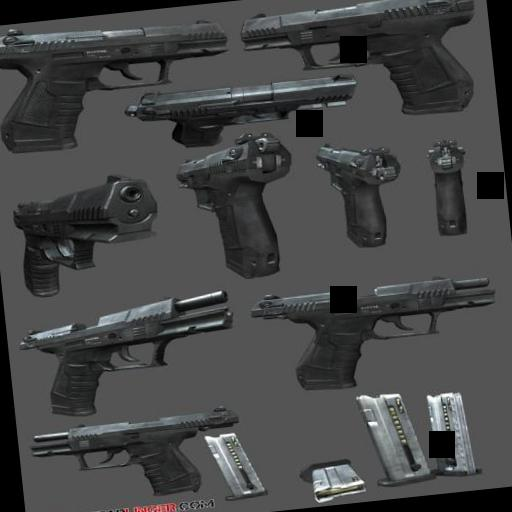Handgun: (0, 6, 236, 154), (237, 0, 484, 134), (249, 270, 505, 396), (22, 289, 240, 418), (32, 402, 249, 506), (169, 128, 300, 284), (8, 168, 162, 300), (119, 69, 361, 152), (312, 132, 408, 250), (426, 136, 474, 236)
